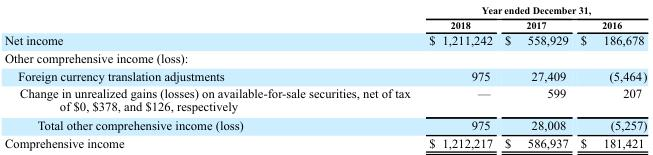table: (3, 4, 646, 149)
table column: (3, 4, 418, 149), (418, 4, 497, 149), (497, 4, 573, 149), (573, 4, 646, 149)
table column header: (3, 4, 646, 31)
table projected row header: (3, 48, 646, 66)
table row: (3, 84, 646, 115), (3, 48, 646, 66), (3, 66, 646, 84), (3, 115, 646, 133), (3, 31, 646, 48), (3, 133, 646, 149), (3, 17, 646, 31), (3, 4, 646, 17)
table spanning cell: (418, 4, 646, 17)
